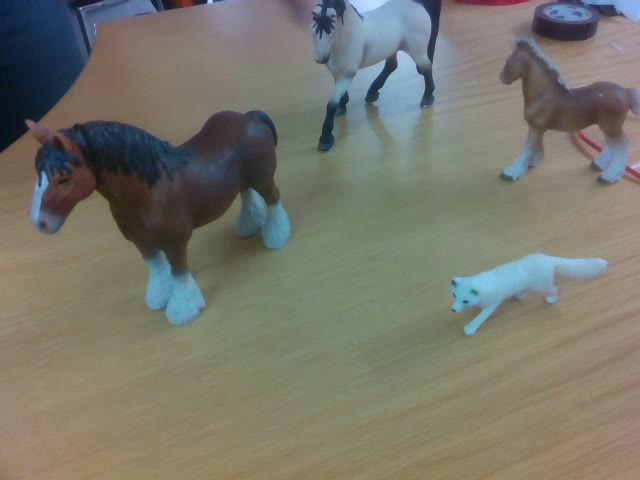toy: (26, 108, 292, 326), (497, 35, 639, 187), (312, 1, 444, 153), (448, 241, 609, 336)
